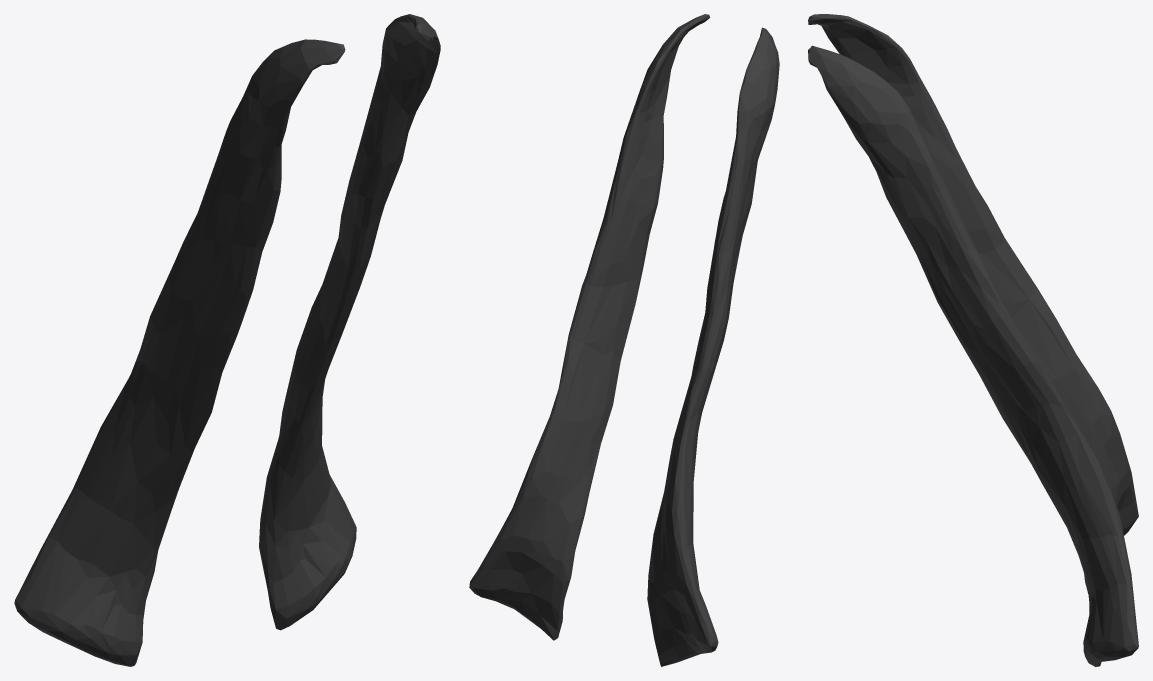
File: m_cleidocephalicus_mastoid.glb
3 views of the same model, side by side, from view 1: azimuth 30°, elevation 25°; view 2: azimuth 150°, elevation 25°; view 3: azimuth 270°, elevation 25° (orthographic). The views are drawn at different scales.
Visible parts, largest first — view 1: m_cleidocephalicus_mastoid; view 2: m_cleidocephalicus_mastoid; view 3: m_cleidocephalicus_mastoid.
Boxes of the visible parts, bbox=[...] form: m_cleidocephalicus_mastoid: bbox=[14, 14, 440, 666]; m_cleidocephalicus_mastoid: bbox=[469, 14, 779, 666]; m_cleidocephalicus_mastoid: bbox=[808, 14, 1138, 666].
Bounding box in the file's own units: 0.006 × 0.0126 × 0.00622.
Materials: 1 (1 with a texture image).
